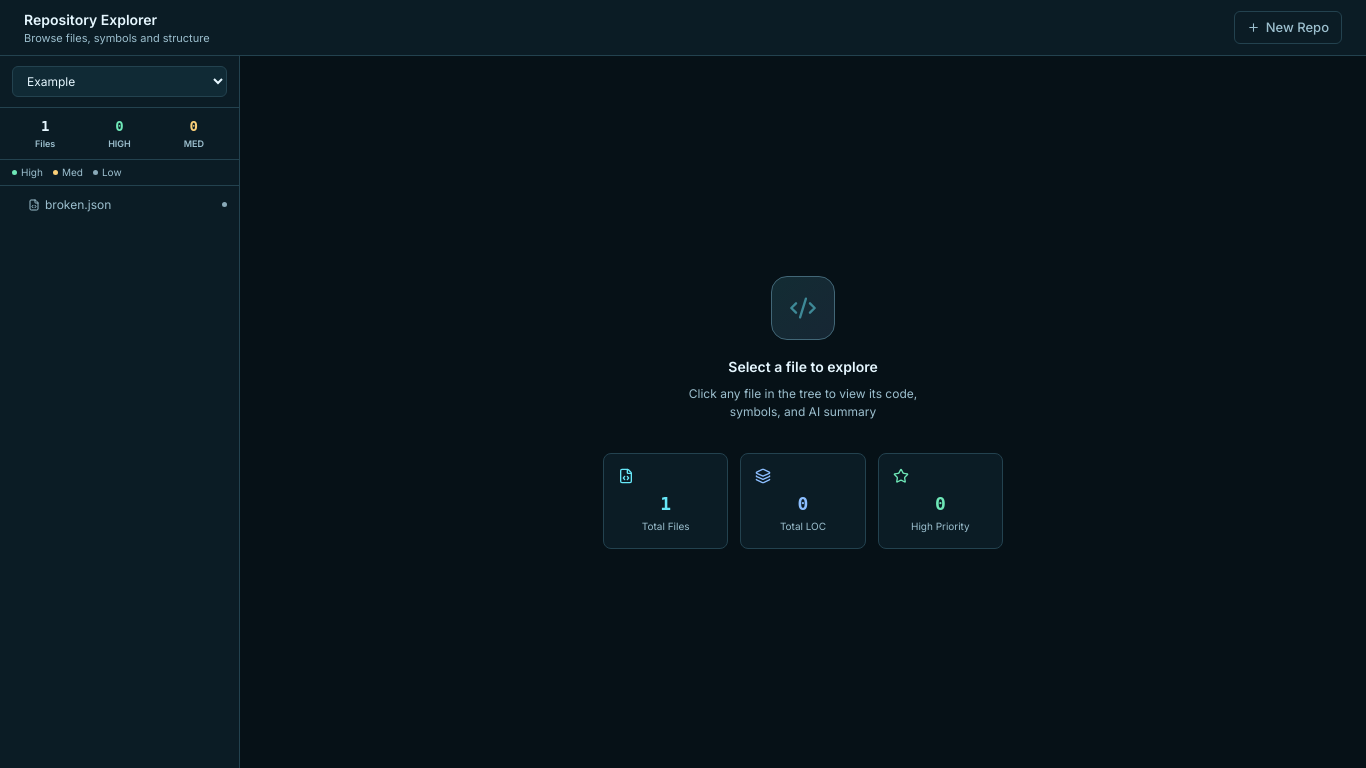
Test: still shows document validation when summary generation rejects invalid content
Click the text "broken.json".
click(78, 204)  # box [45,196,111,212]
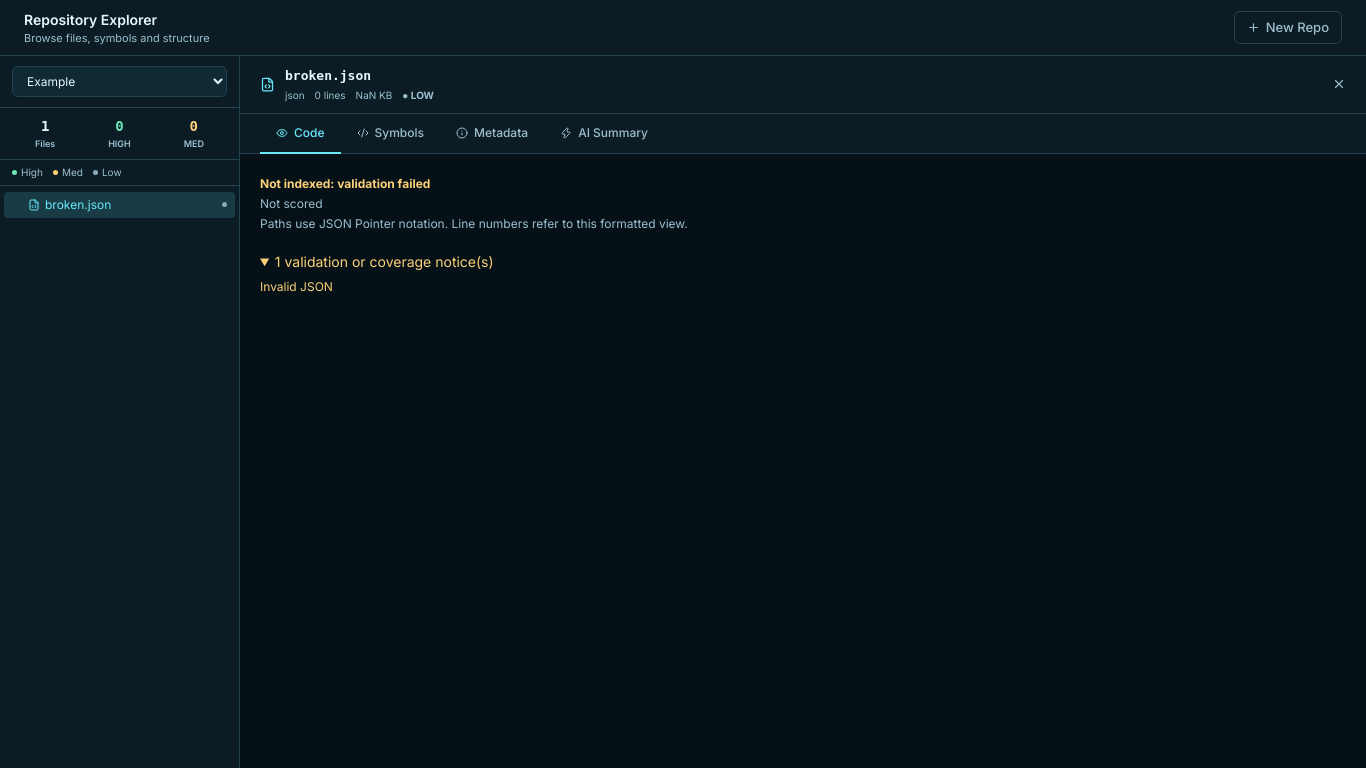
Now the text "Not indexed: validation failed" is shown, box [260,176,430,190]
Now the list item "Invalid JSON" is shown, box [260,279,333,294]
